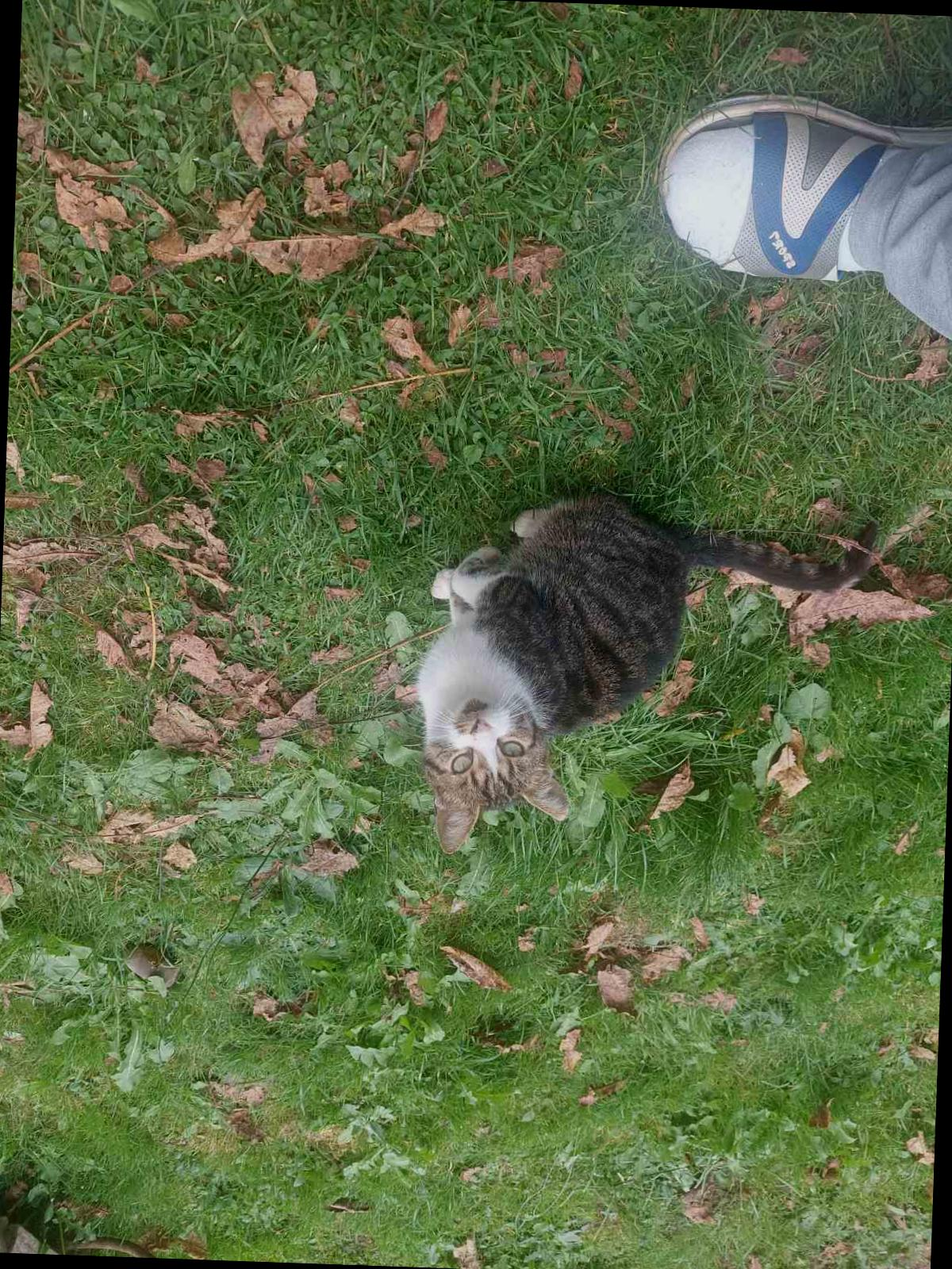macka: (409, 480, 880, 868)
